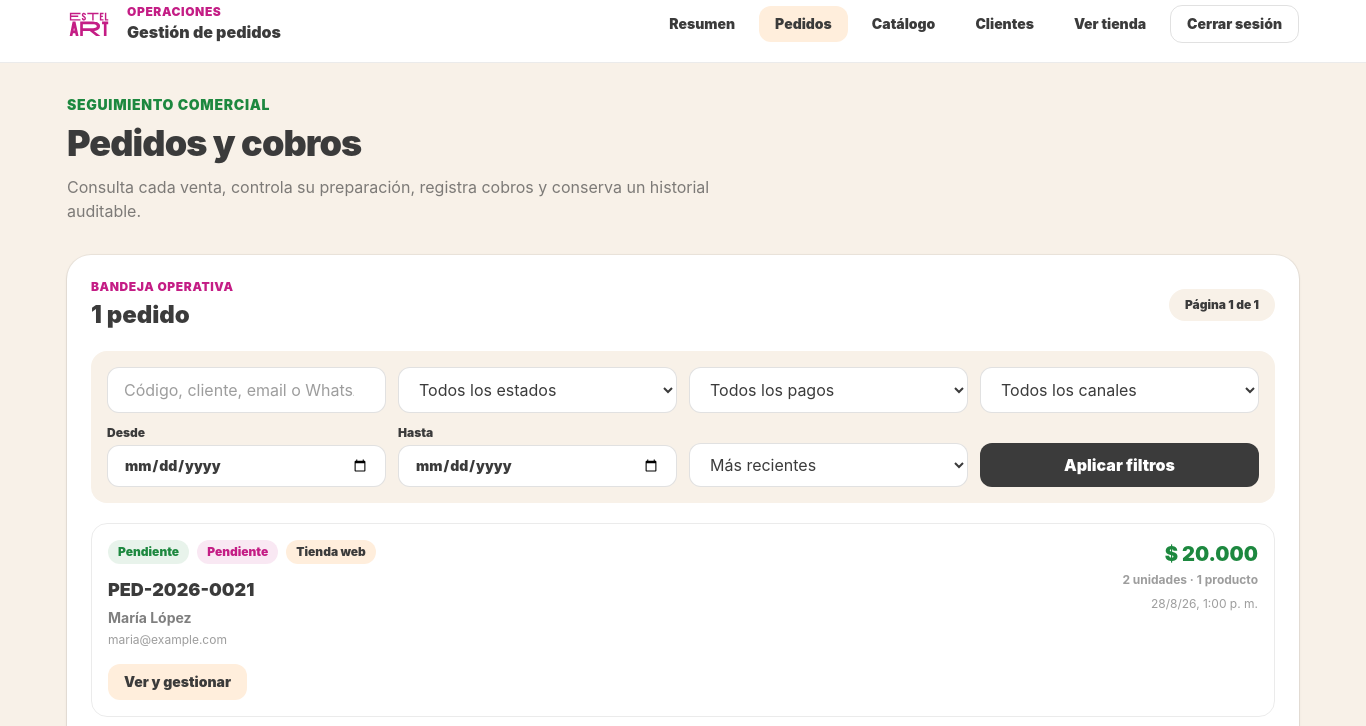
it: GestionPedidos › exige reembolso antes de ofrecer la cancelación de un pedido cobrado
The width and height of the screenshot is (1366, 726).
Expected: the heading "PED-2026-0021" is shown, [108, 579, 254, 600]
Click the button "Ver y gestionar" at x=178, y=682, box [108, 664, 247, 700]
(page scrolled)
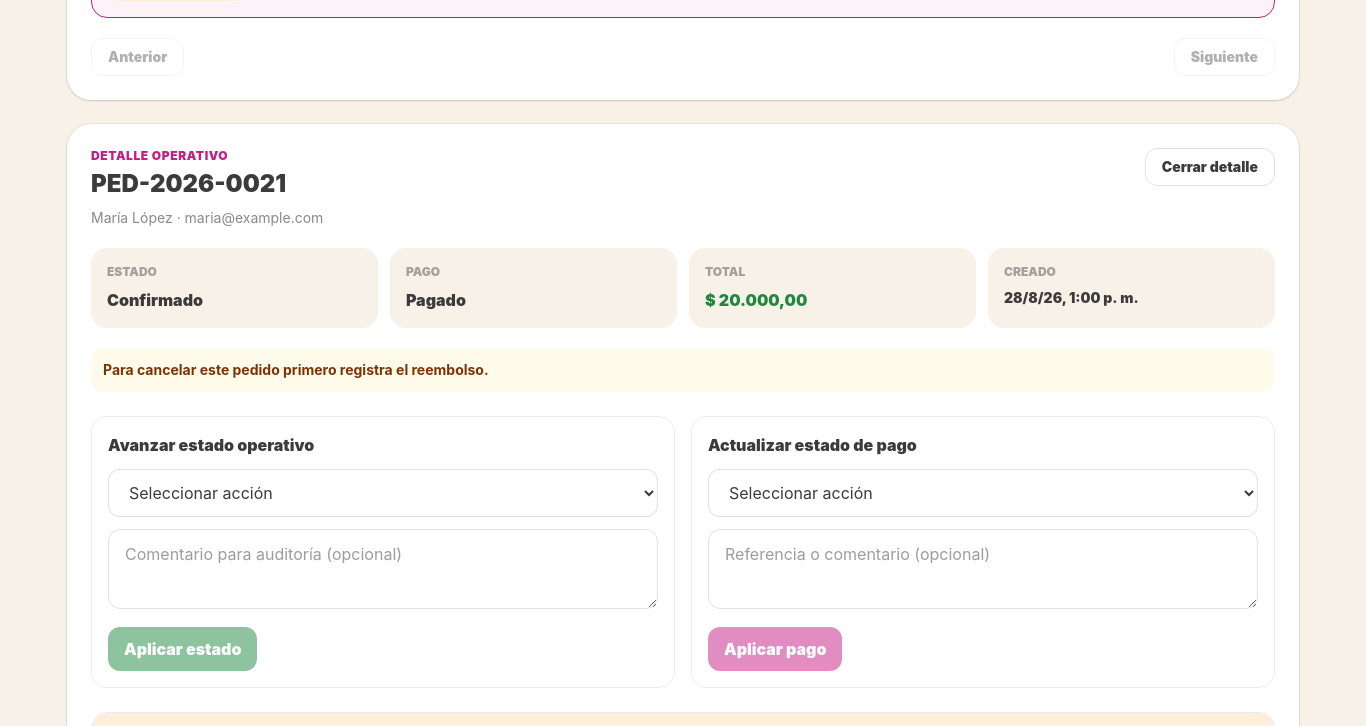
Result: the text "Para cancelar este pedido primero registra el reembolso." is shown at [91, 348, 1275, 392]
